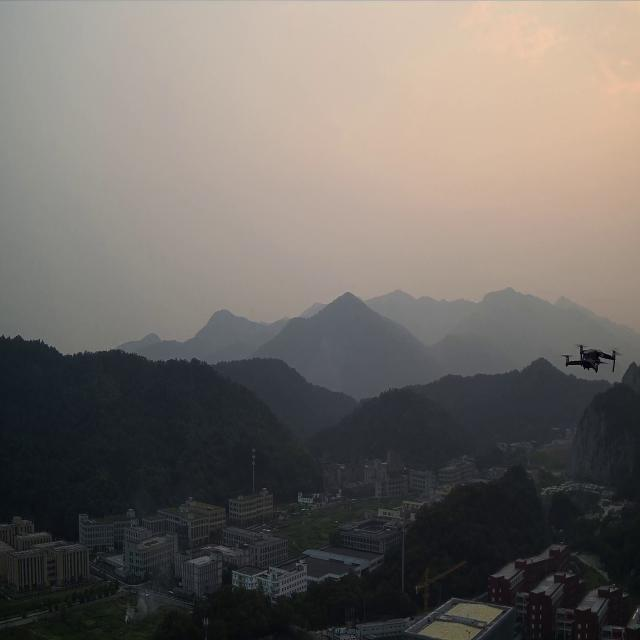UAV: (560, 343, 623, 375)
